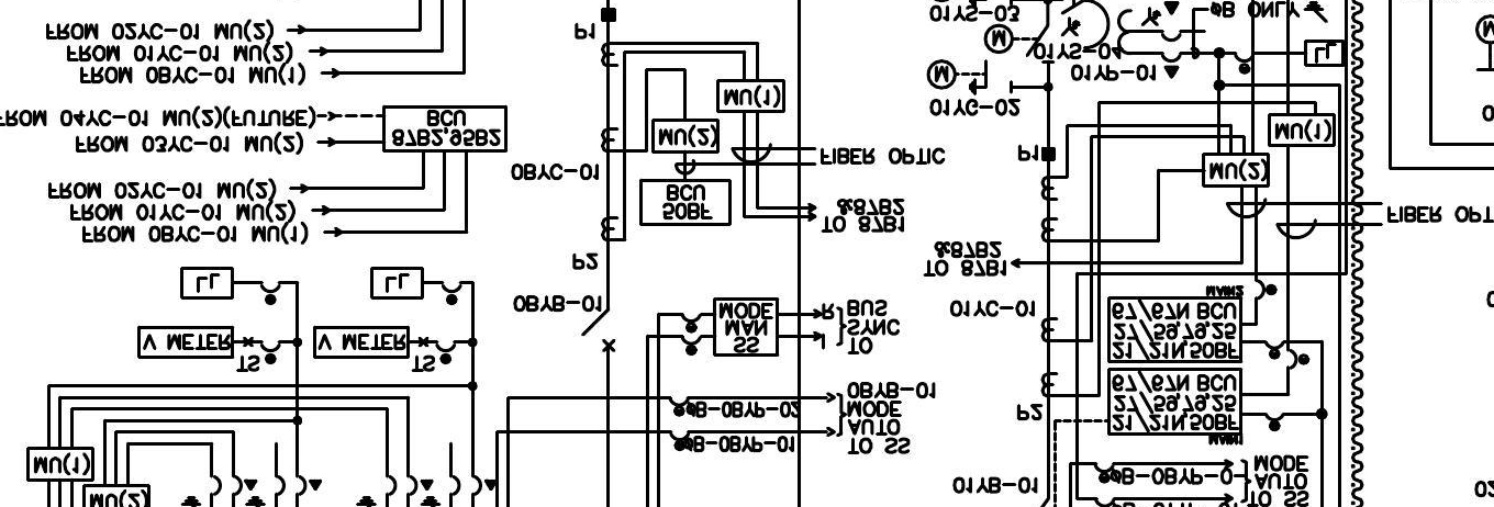115_1way_ds_w_motor: (982, 23, 1056, 64)
115_breaker: (580, 309, 616, 353)
115_gs_w_motor: (926, 59, 1013, 96)
LL: (179, 266, 235, 300), (369, 266, 425, 300), (1303, 39, 1345, 67)
MU: (25, 446, 95, 482), (1201, 152, 1271, 188), (651, 118, 720, 154), (716, 78, 785, 113), (1267, 112, 1336, 147)
ss_man_mode: (712, 297, 780, 357)
v_m_digital: (136, 325, 235, 360), (312, 325, 411, 360)
